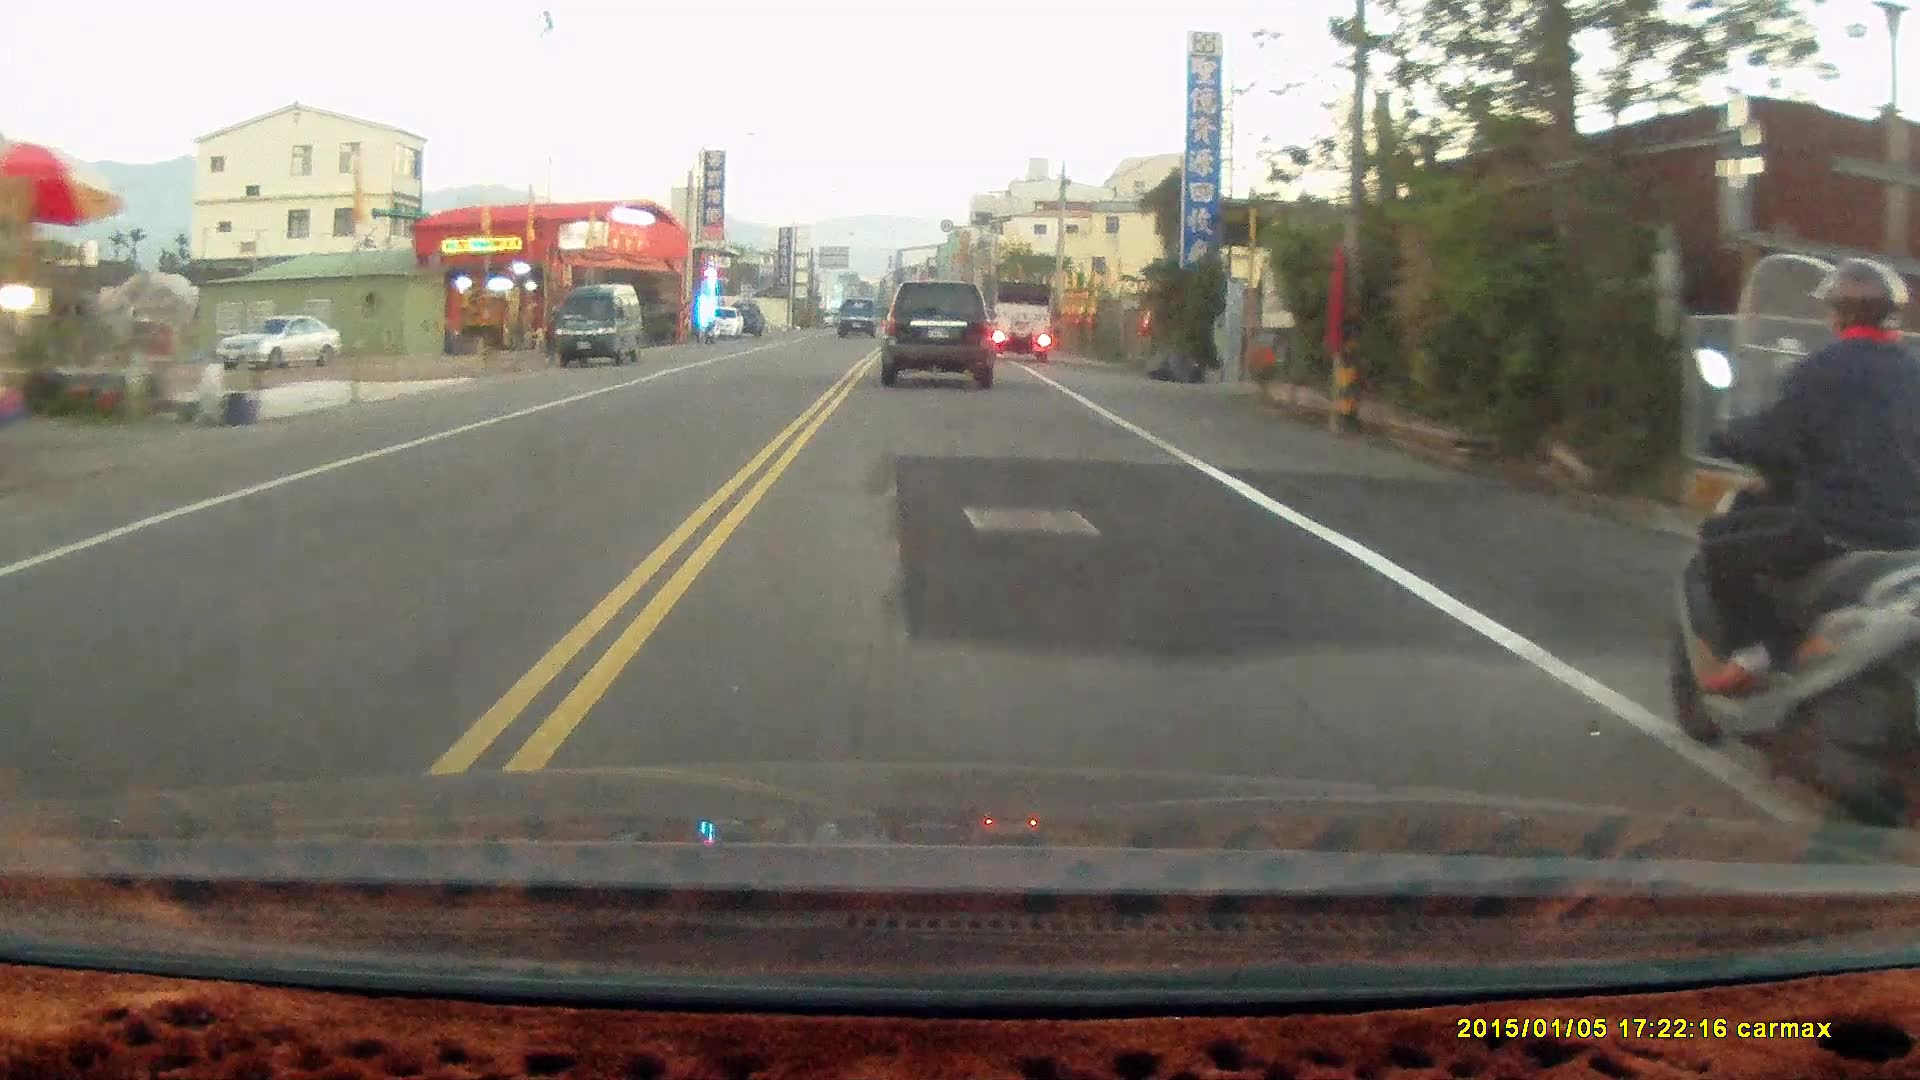rider: (1667, 251, 1919, 826)
vehicle: (878, 277, 1002, 388), (554, 283, 643, 367), (213, 318, 342, 371), (987, 276, 1057, 362)
